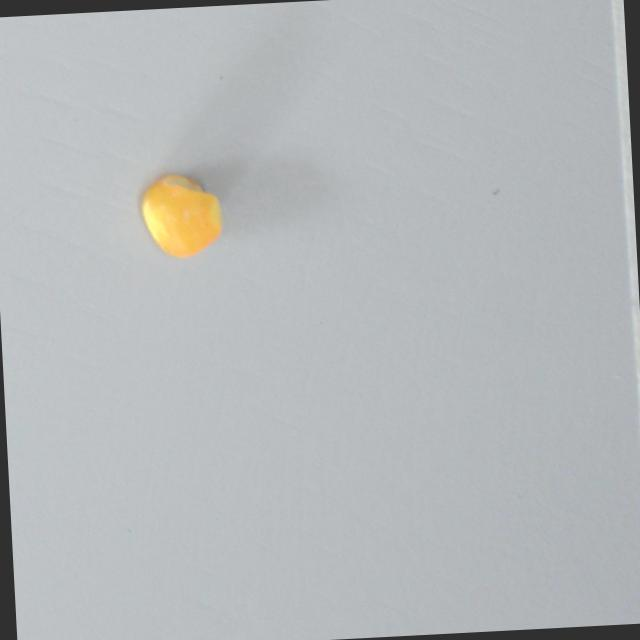no_canjicado: (137, 170, 226, 260)
